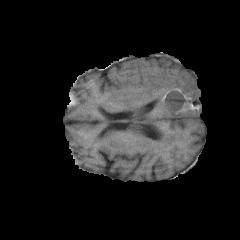glioma: (100, 59, 201, 143)
